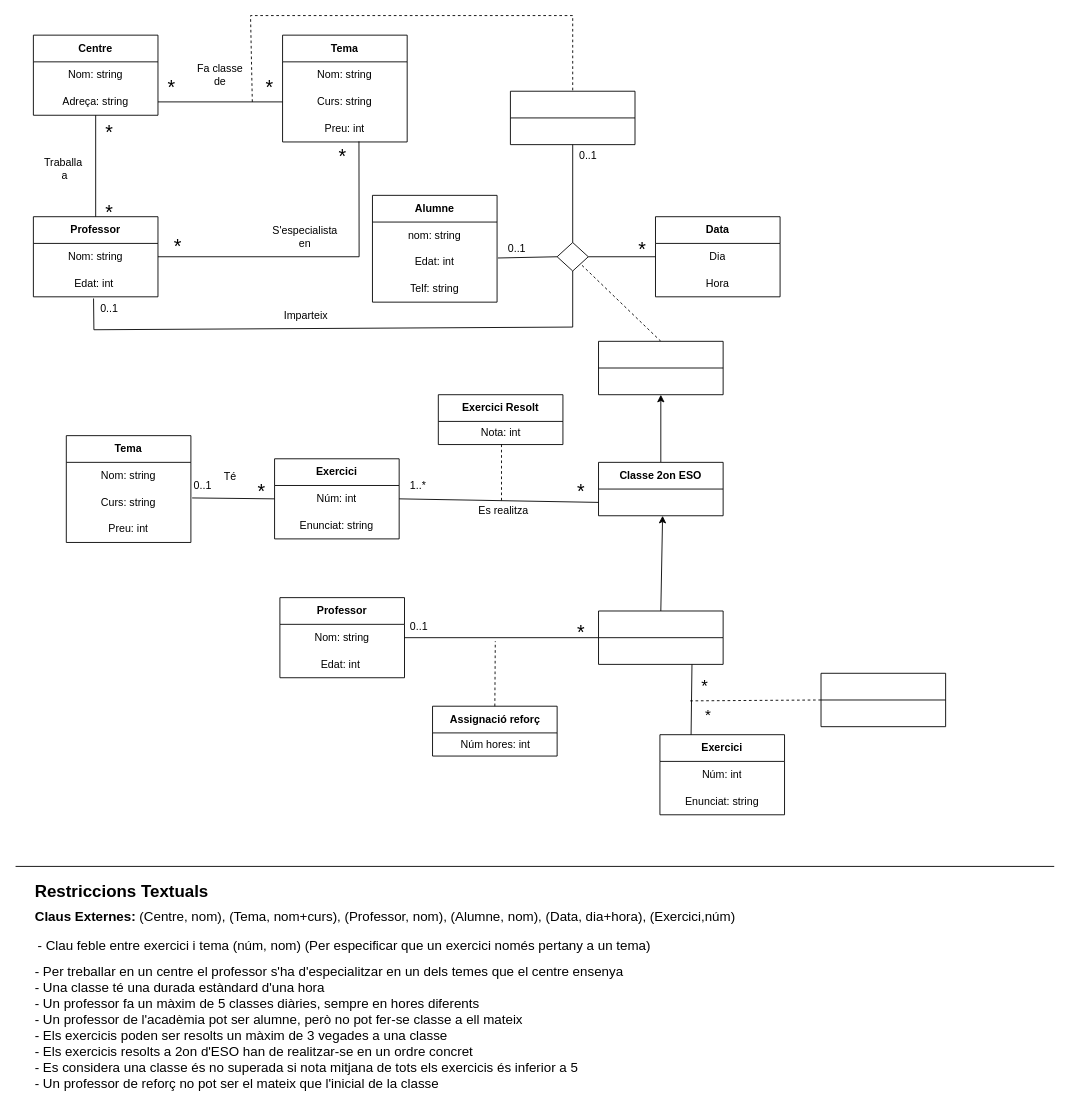
This 1070x1113 diagram has some shape labels left out. Here are the shapes that lost their labels. From the top down, the centre of each, then its label:
At point (572, 117): "Classe".
At point (660, 367): "Classe Impartida".
At point (660, 637): "Classe 2on no superada".
At point (883, 699): "Exercicis reforç proposats".
